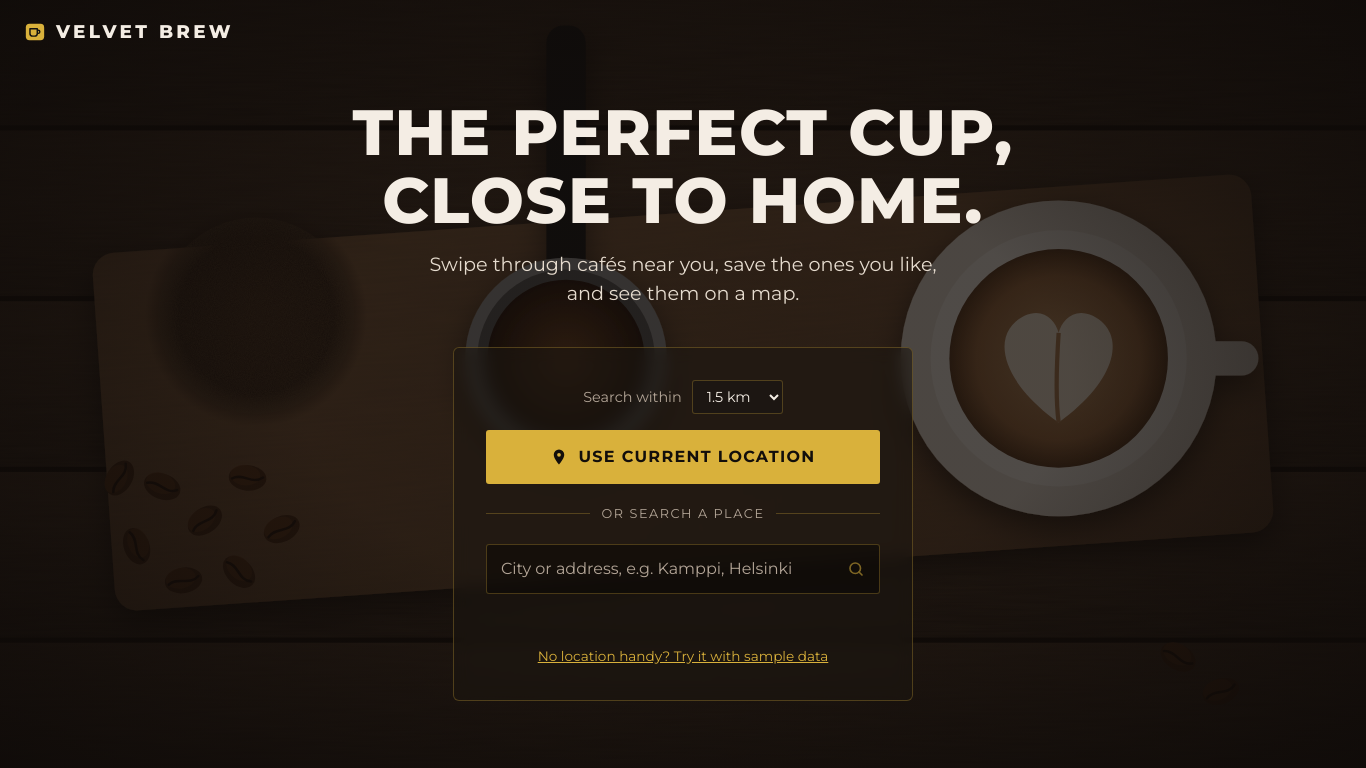
App › explains what to do when location access is denied
Click the button "Use current location". click: point(683, 457)
box: left=486, top=430, right=880, bottom=484
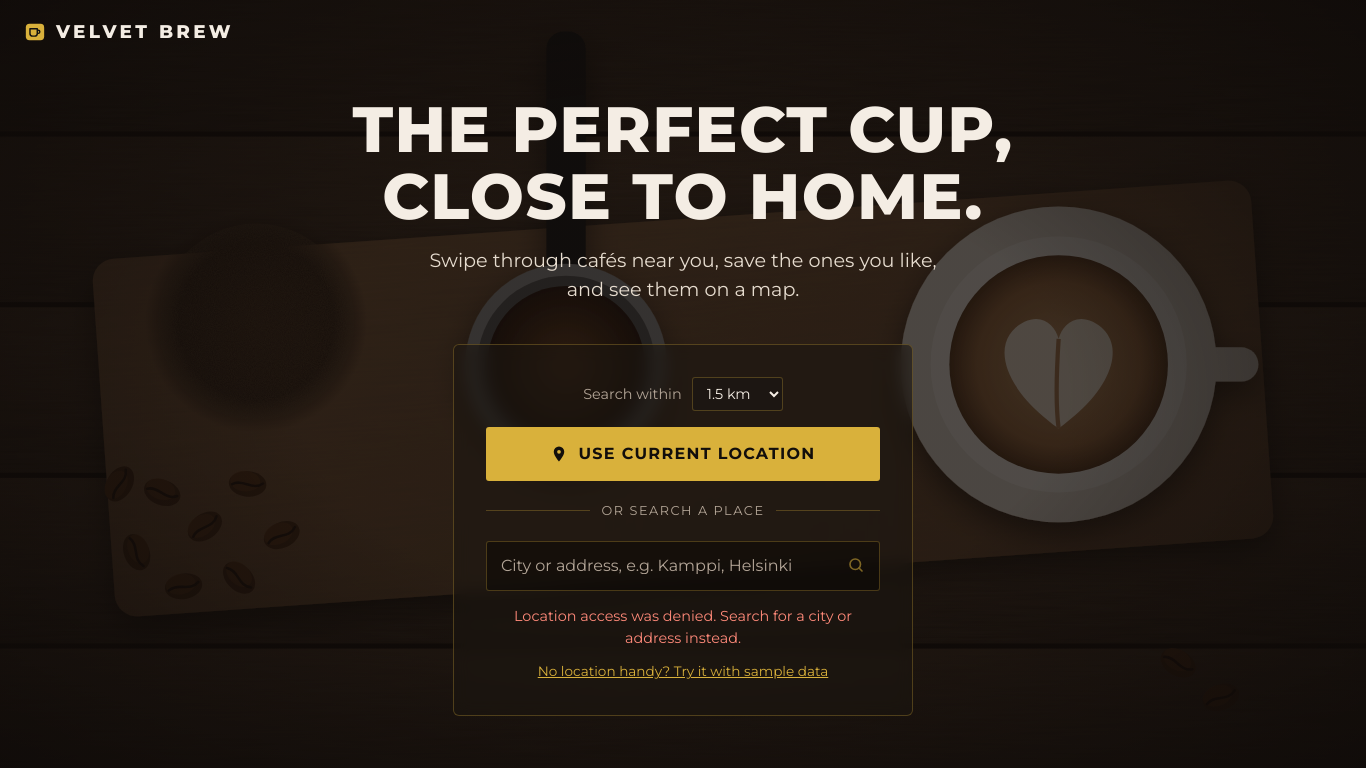
Expected: the message reads "Location access was denied. Search for a city or address instead.", left=514, top=607, right=852, bottom=647
